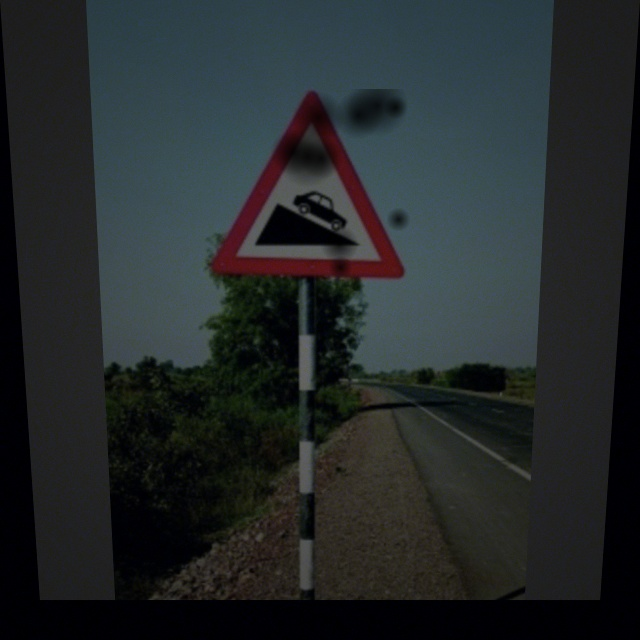Steep_Descent: (218, 89, 411, 278)
